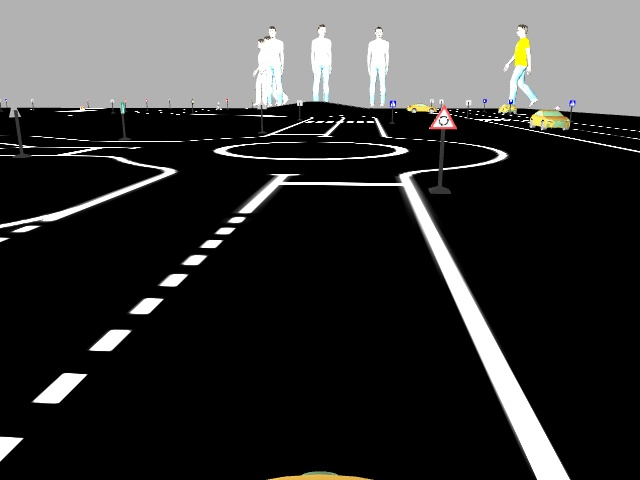Roundabout: (426, 103, 458, 131)
